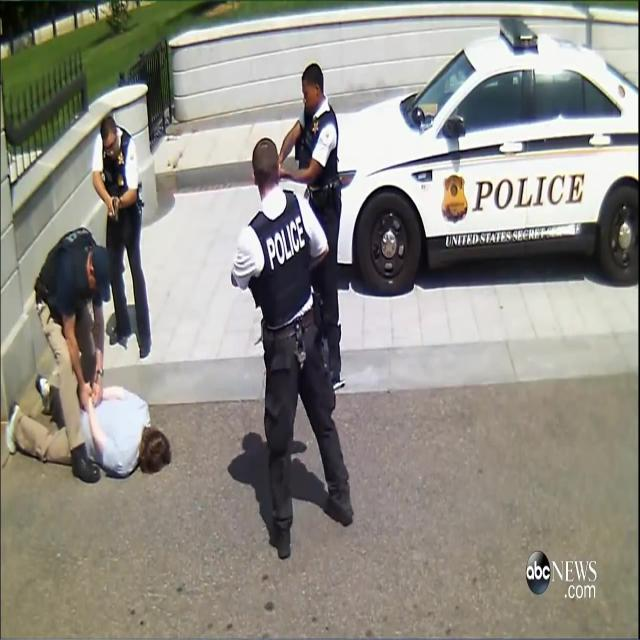Weapon: (99, 183, 137, 250)
